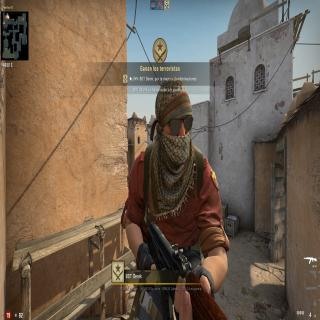T-Head: (150, 75, 196, 171)
